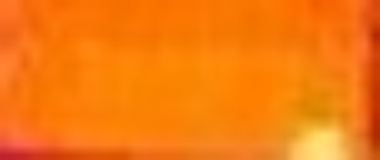Hotspot: (290, 124, 351, 160)
